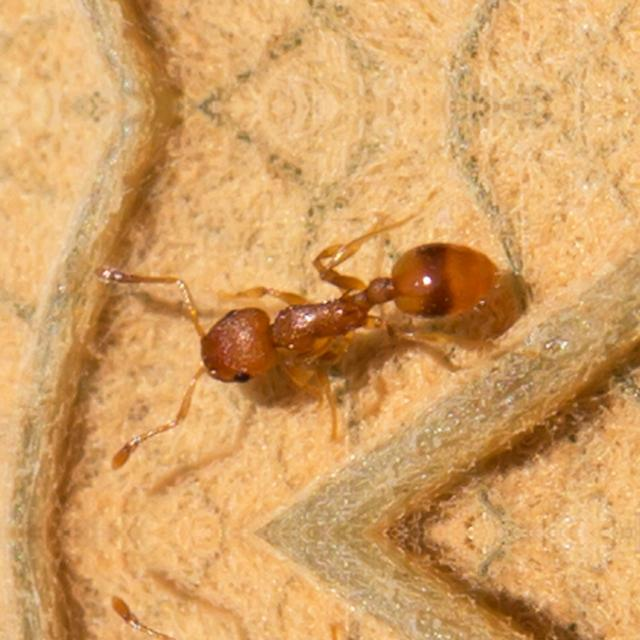Temnothorax: (136, 218, 544, 418)
